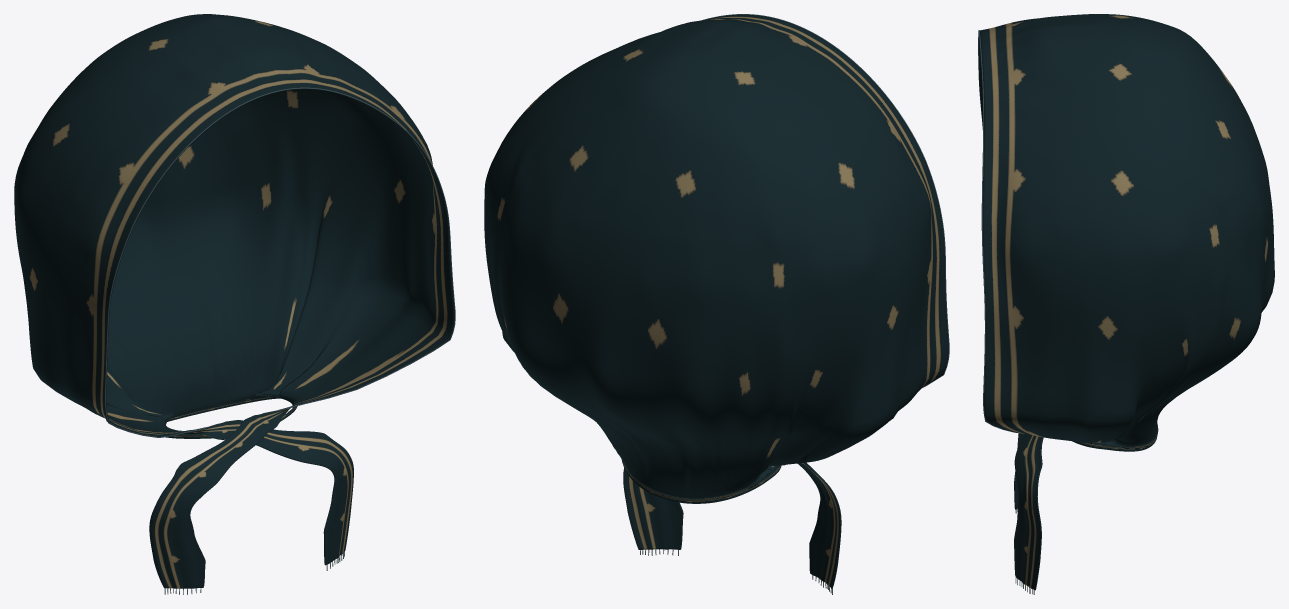
File: Masculine-sidepart-sweatshirt-pashmina249-headgear.glb
3 renders of one model, left to right at view 1: azimuth 30°, elevation 25°; view 2: azimuth 150°, elevation 25°; view 3: azimuth 270°, elevation 25°, orthographic. The views are drawn at different scales.
Parts seen in each view (by area): view 1: 226 headgear / Headwear / continuous woven pashmina239, 226 headgear / Headwear / face edge239; view 2: 226 headgear / Headwear / continuous woven pashmina239, 226 headgear / Headwear / face edge239; view 3: 226 headgear / Headwear / continuous woven pashmina239, 226 headgear / Headwear / face edge239.
Boxes of the visible parts, x1=… form: 226 headgear / Headwear / continuous woven pashmina239: x1=14, y1=14, x2=454, y2=588; 226 headgear / Headwear / face edge239: x1=105, y1=87, x2=455, y2=437; 226 headgear / Headwear / continuous woven pashmina239: x1=484, y1=14, x2=948, y2=588; 226 headgear / Headwear / face edge239: x1=702, y1=14, x2=949, y2=387; 226 headgear / Headwear / continuous woven pashmina239: x1=978, y1=14, x2=1274, y2=590; 226 headgear / Headwear / face edge239: x1=978, y1=30, x2=1019, y2=433.
Size of the model in its own units: 1.04 by 1.42 by 0.7321.
Materials: 3 (1 with a texture image).
